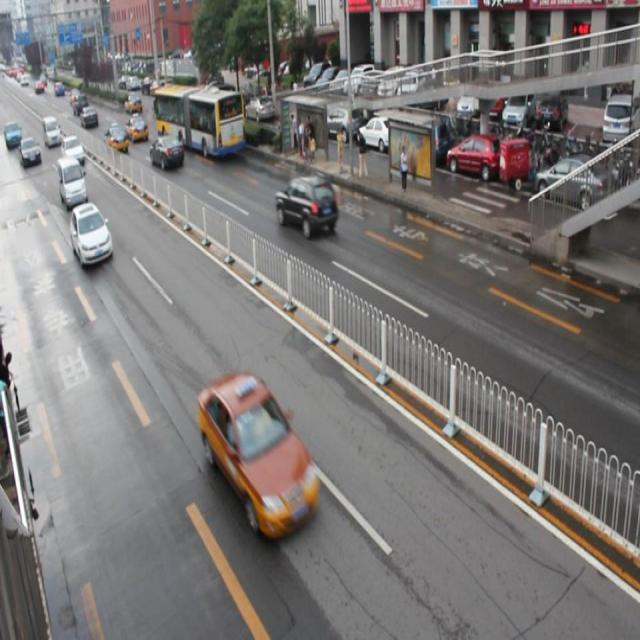car: (196, 371, 318, 540), (274, 176, 338, 239), (70, 200, 112, 267), (150, 136, 183, 170), (103, 123, 129, 152), (126, 111, 148, 142)
truck: (58, 157, 89, 208)
van: (155, 82, 245, 159)
